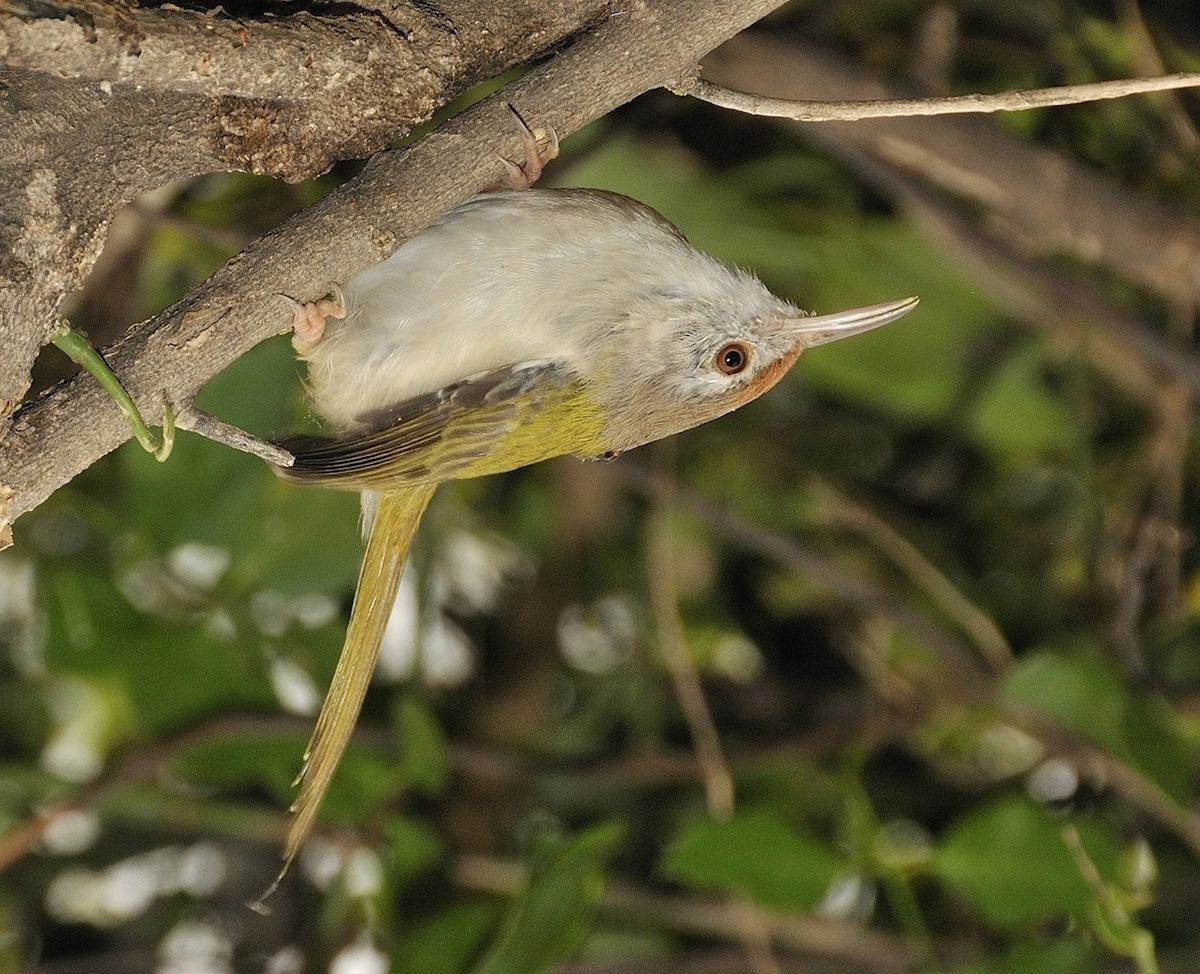tailorbird: (179, 63, 938, 850)
